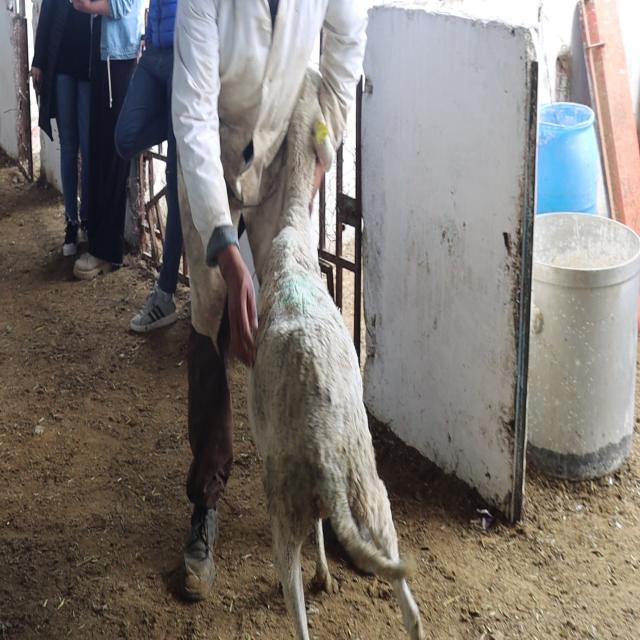Score_1: (247, 68, 424, 639)
